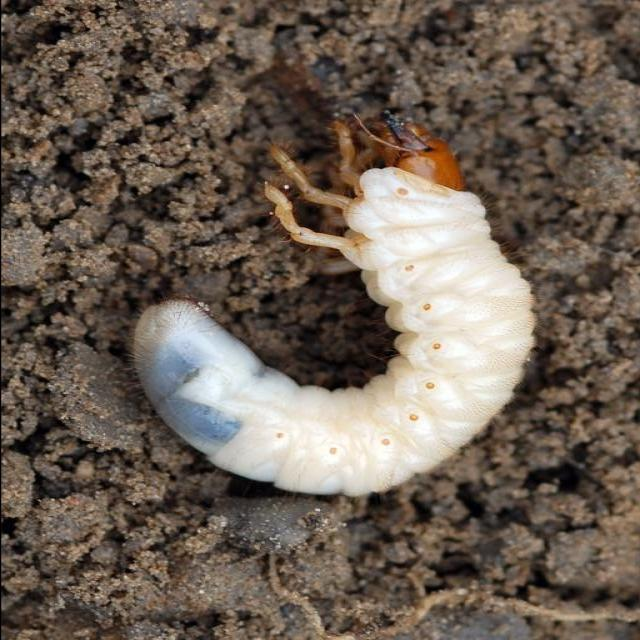grub: (133, 130, 544, 509)
